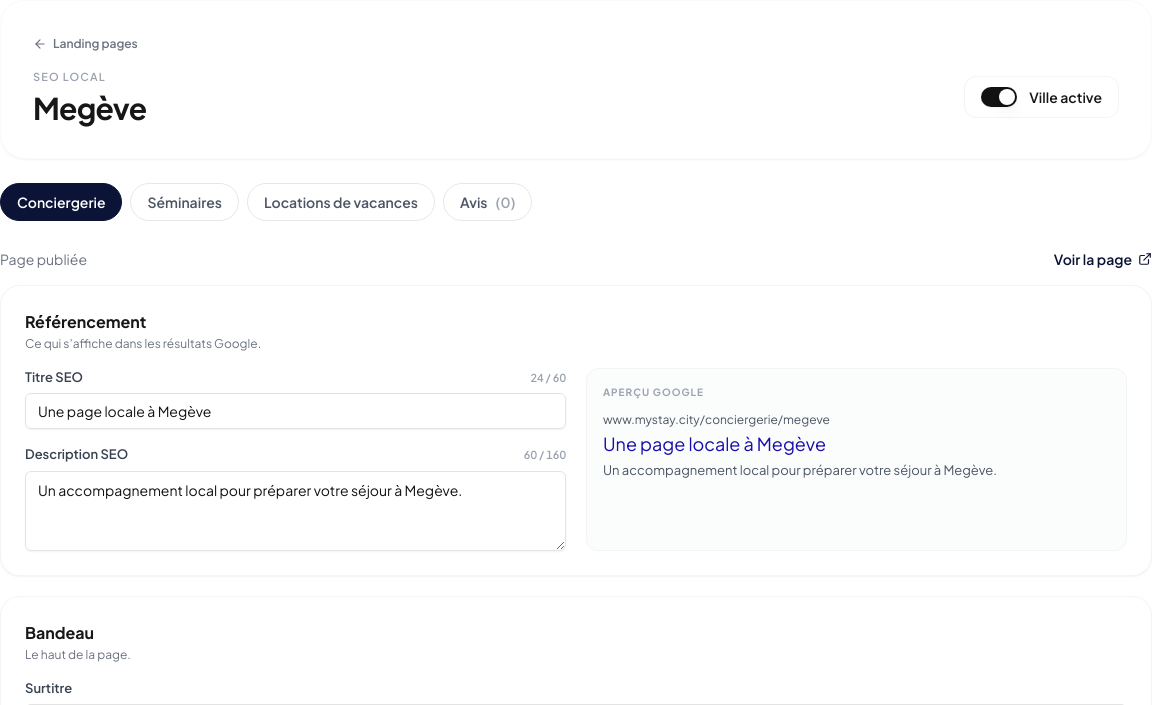
076 — page ville › AC-02-02 : champs regroupés en blocs ; « Texte sans logement » seulement en Locations
Expected: the heading "Référencement" is shown, [25,310,146,332]
Expected: the heading "Bandeau" is shown, [25,622,94,642]
Step 1. Click the tab "Locations de vacances" → (341, 202), box [247,182,435,220]
(page scrolled)
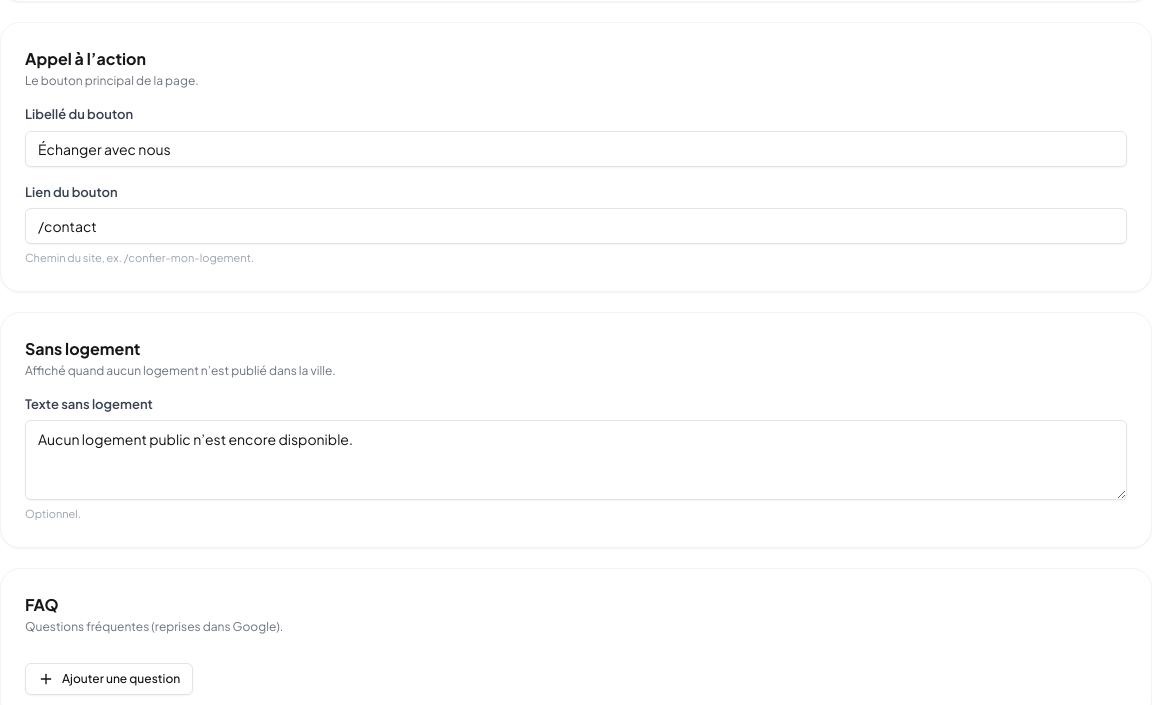
Expected: the text box labelled "Texte sans logement" holds "Aucun logement public n’est encore disponible.", [25,420,1127,500]
